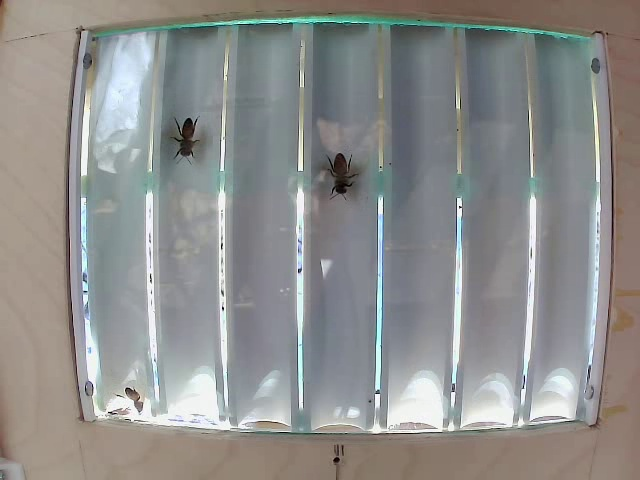bee: (318, 140, 369, 206), (166, 105, 205, 171)
